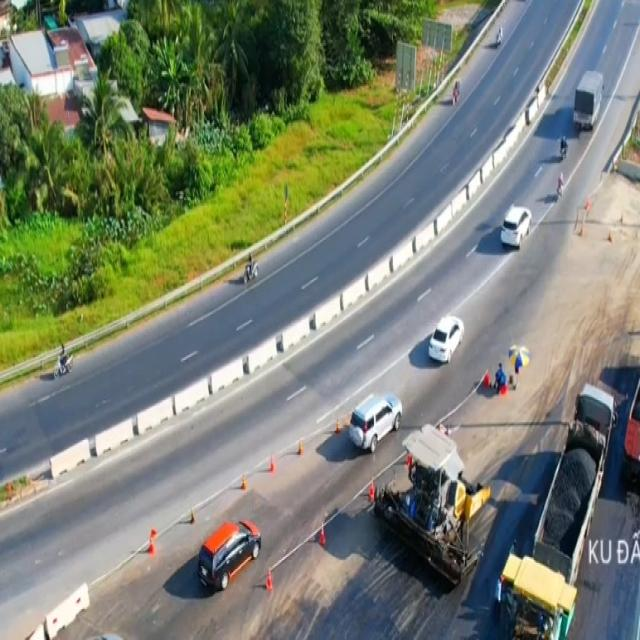car: (198, 516, 262, 592), (349, 392, 404, 454), (424, 314, 467, 368), (499, 204, 533, 252)
motorbike: (54, 341, 73, 375), (244, 250, 258, 284)
truck: (572, 72, 602, 130)
